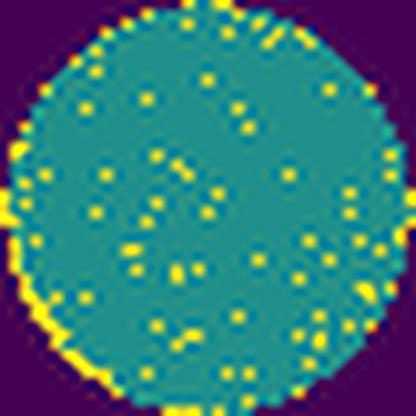Edge-Loc: (8, 237, 128, 401)
